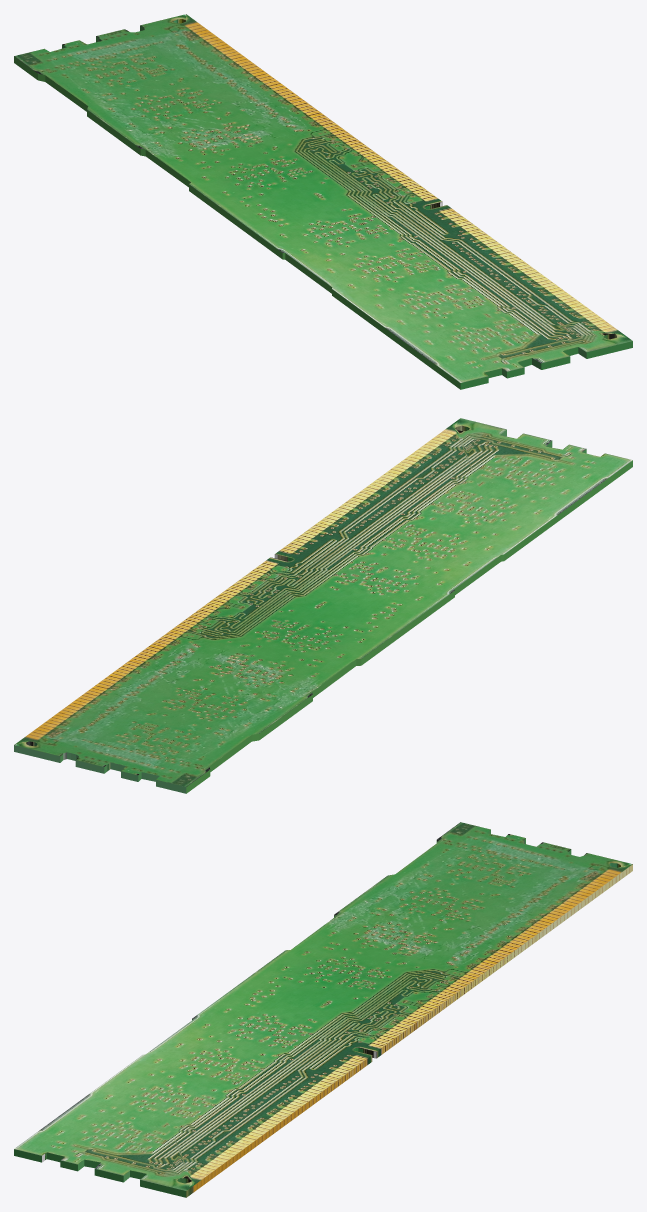
File: ram.fbx
The picture shows the model from 3 angles, top to bottom: view 1: azimuth 30°, elevation 25°; view 2: azimuth 150°, elevation 25°; view 3: azimuth 330°, elevation 25°; orthographic projection.
Visible parts, largest first — view 1: Empty.001; view 2: Empty.001; view 3: Empty.001.
Part boxes in pixels (<box>): Empty.001: <box>14,14,632,389</box>; Empty.001: <box>14,418,632,793</box>; Empty.001: <box>14,822,632,1197</box>.
Bounding box in the file's own units: 111 × 4.19 × 500.
Materials: 1 (1 with a texture image).
